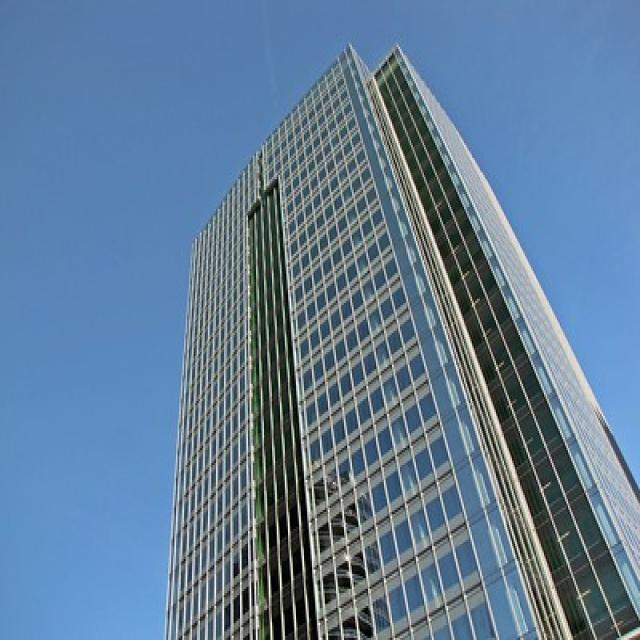building: (158, 38, 640, 640)
